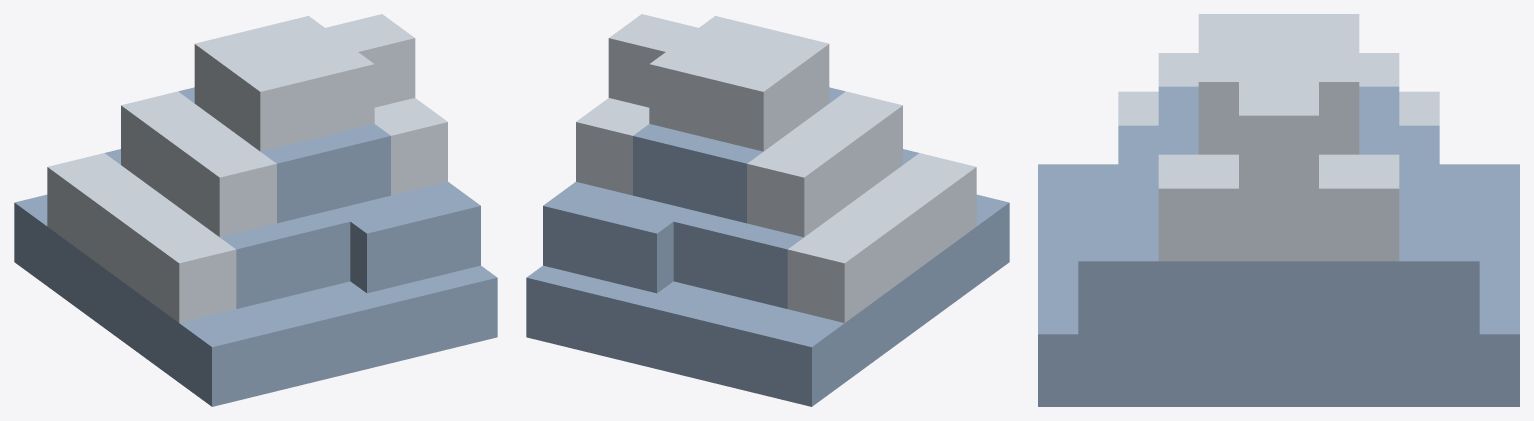
The model's file is stone-with-snow-01.obj.
3 renders of one model, left to right at view 1: azimuth 30°, elevation 25°; view 2: azimuth 150°, elevation 25°; view 3: azimuth 270°, elevation 25°, orthographic. The views are drawn at different scales.
Bounding box in the file's own units: 5 × 4 × 6.
1 material, 1 textured.
